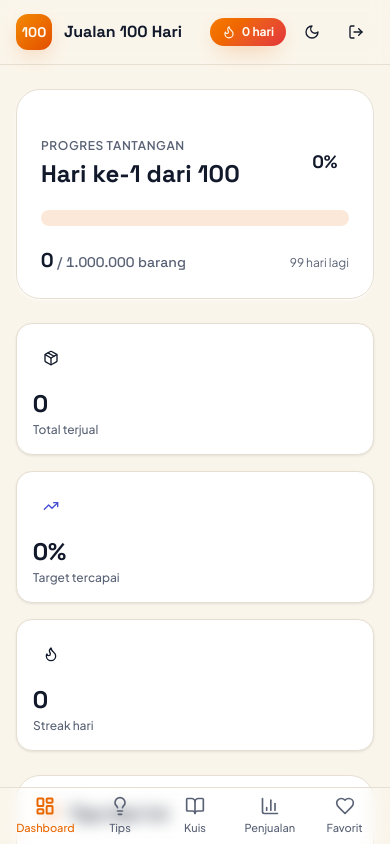
App shell › navigates between the five main destinations
This screenshot has width=390, height=844.
Expected: the heading "Hari ke-1 dari 100" is shown, [41,158,240,190]
Click the button with test id "nav.tips.tab" at (120, 816), box [83,788,158,843]
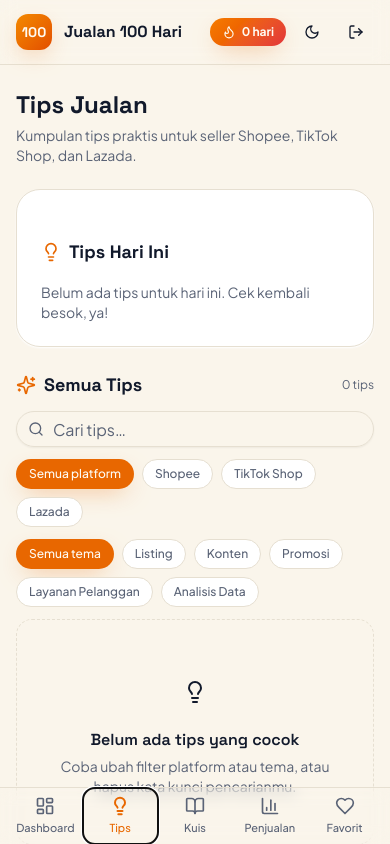
Result: the heading "Tips Jualan" is shown at [16,89,148,120]
Click the button with test id "nav.kuis.tab" at (195, 816), box [158,788,232,843]
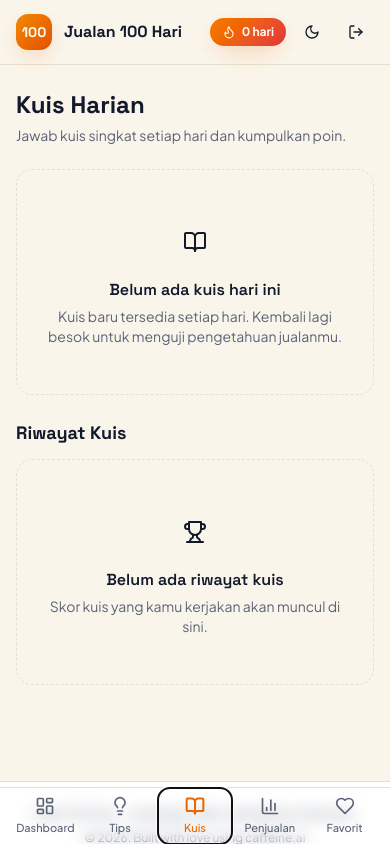
Result: the heading "Kuis Harian" is shown at [16,89,145,120]
Click the button with test id "nav.penjualan.tab" at (270, 816), box [232,788,307,843]
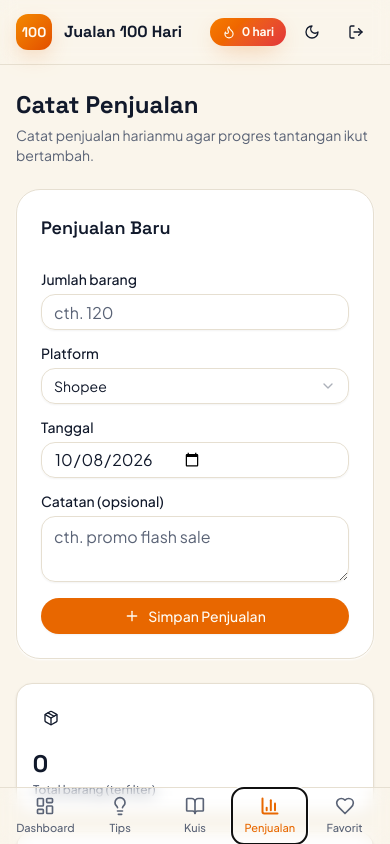
Result: the heading "Catat Penjualan" is shown at [16,89,198,120]
Click the button with test id "nav.favorit.tab" at (345, 816), box [307,788,382,843]
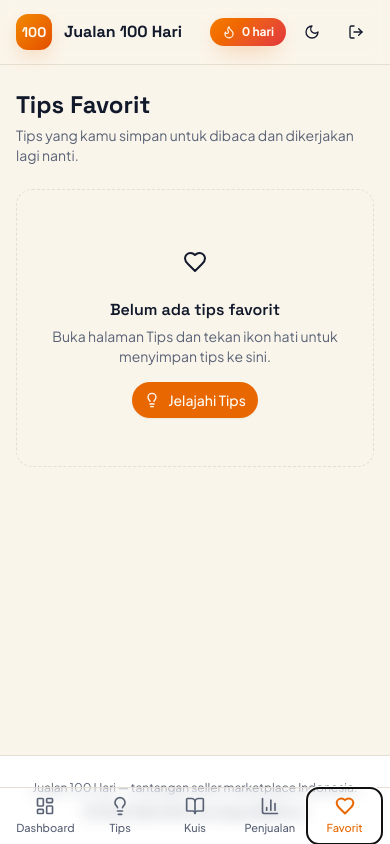
Result: the heading "Tips Favorit" is shown at [16,89,150,120]
Click the button with test id "nav.dashboard.tab" at (45, 816), box [8,788,83,843]
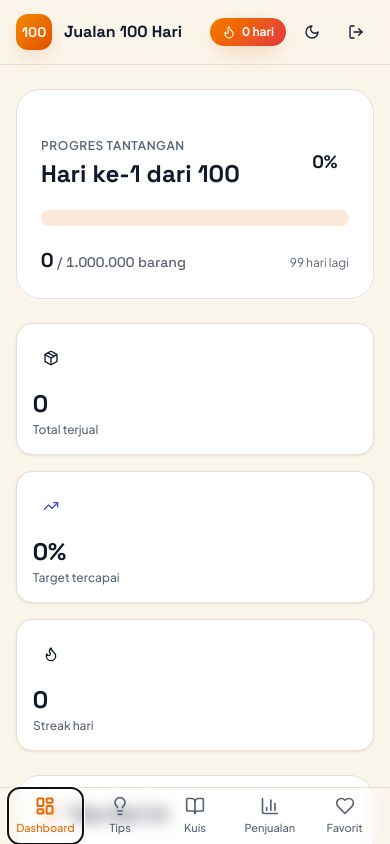
Result: the heading "Hari ke-1 dari 100" is shown at [41,158,240,190]
